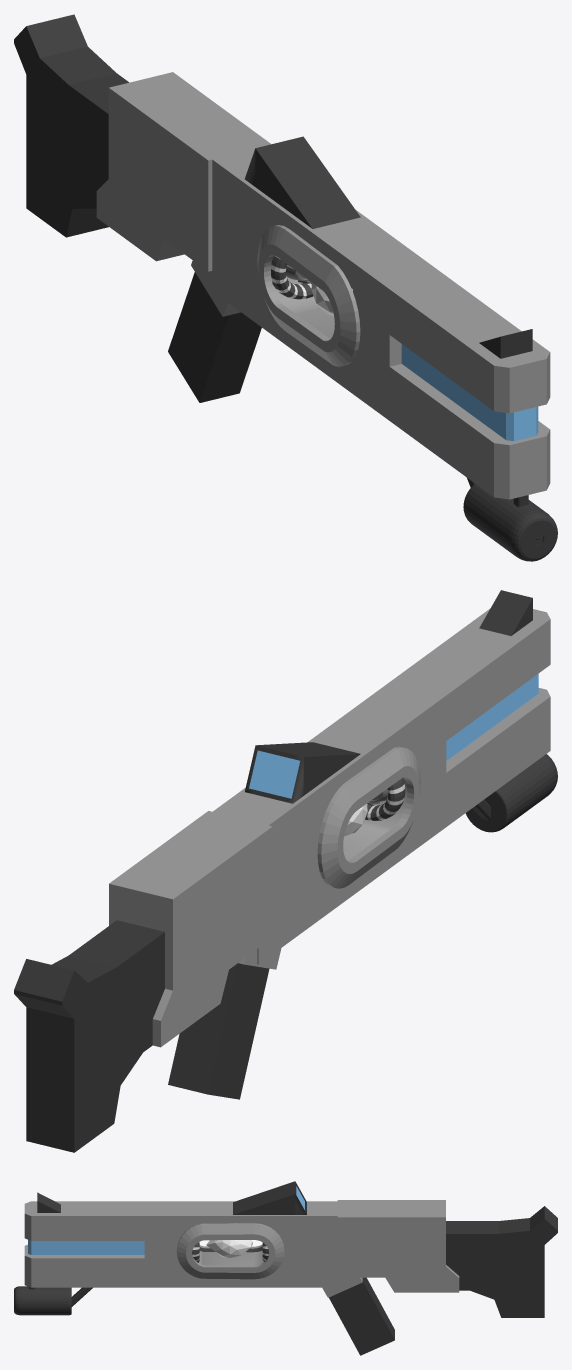
Rendered from lazer blaster 3.fbx.
3 views of the same model, one above another, from view 1: azimuth 30°, elevation 25°; view 2: azimuth 150°, elevation 25°; view 3: azimuth 270°, elevation 25° (orthographic). The views are drawn at different scales.
Parts seen in each view (by area): view 1: Cube.001, Cylinder, Cube.002, Torus.002; view 2: Cube.001, Cylinder, Cube.002, Cube.003, Torus.001; view 3: Cube.001, Cylinder, Cube.002, Icosphere.
Boxes of the visible parts, <box> form: Cube.001: <box>14,14,550,499</box>; Cylinder: <box>463,484,557,561</box>; Cube.002: <box>401,344,538,441</box>; Torus.002: <box>271,256,313,299</box>; Cube.001: <box>14,590,550,1152</box>; Cylinder: <box>465,754,557,832</box>; Cube.002: <box>446,674,538,760</box>; Cube.003: <box>249,750,300,798</box>; Torus.001: <box>365,778,405,820</box>; Cube.001: <box>24,1181,557,1355</box>; Cylinder: <box>14,1286,71,1315</box>; Cube.002: <box>28,1240,144,1254</box>; Icosphere: <box>206,1240,252,1258</box>.
Size of the model in its own units: 165 by 604 by 1826.
